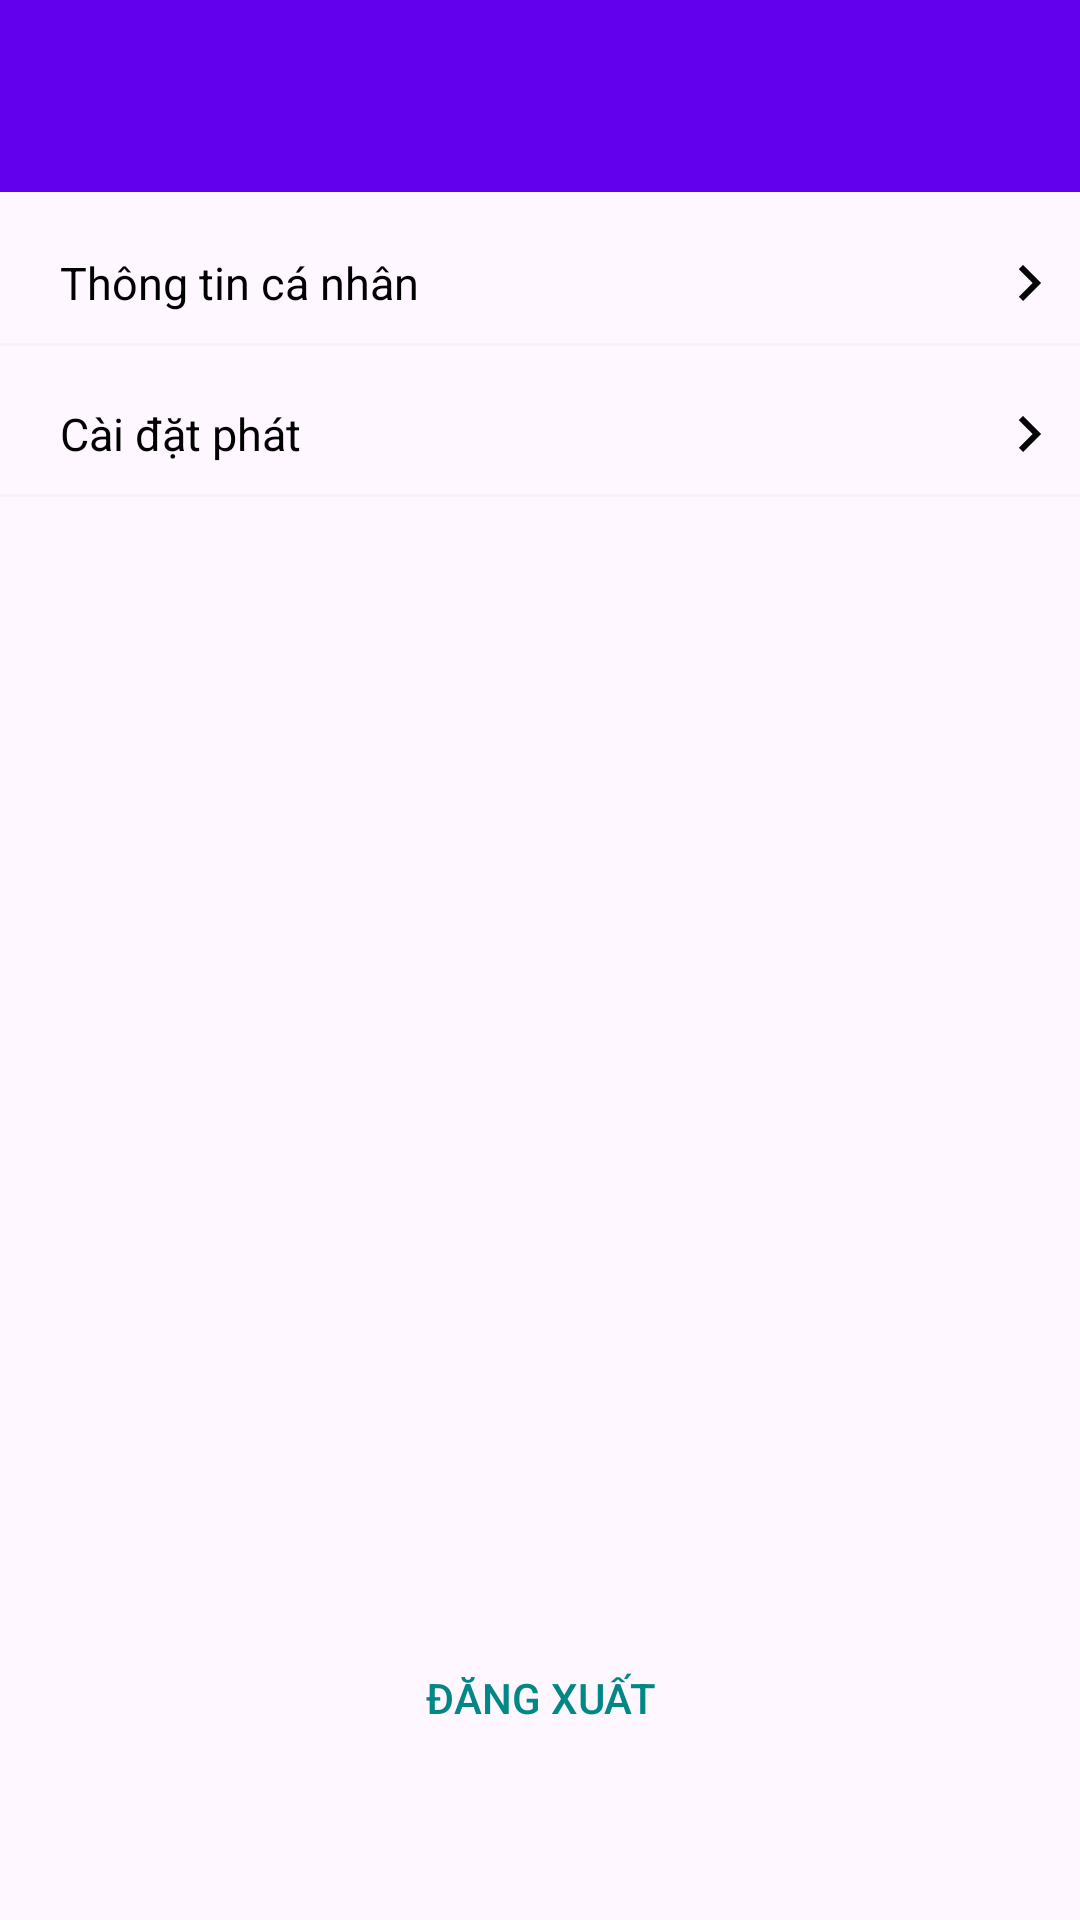

Point at icon controls on the screen. Image size 1080 × 1920, points as point (x, y).
arrow right more category: point (1030, 283), point (1030, 434)
